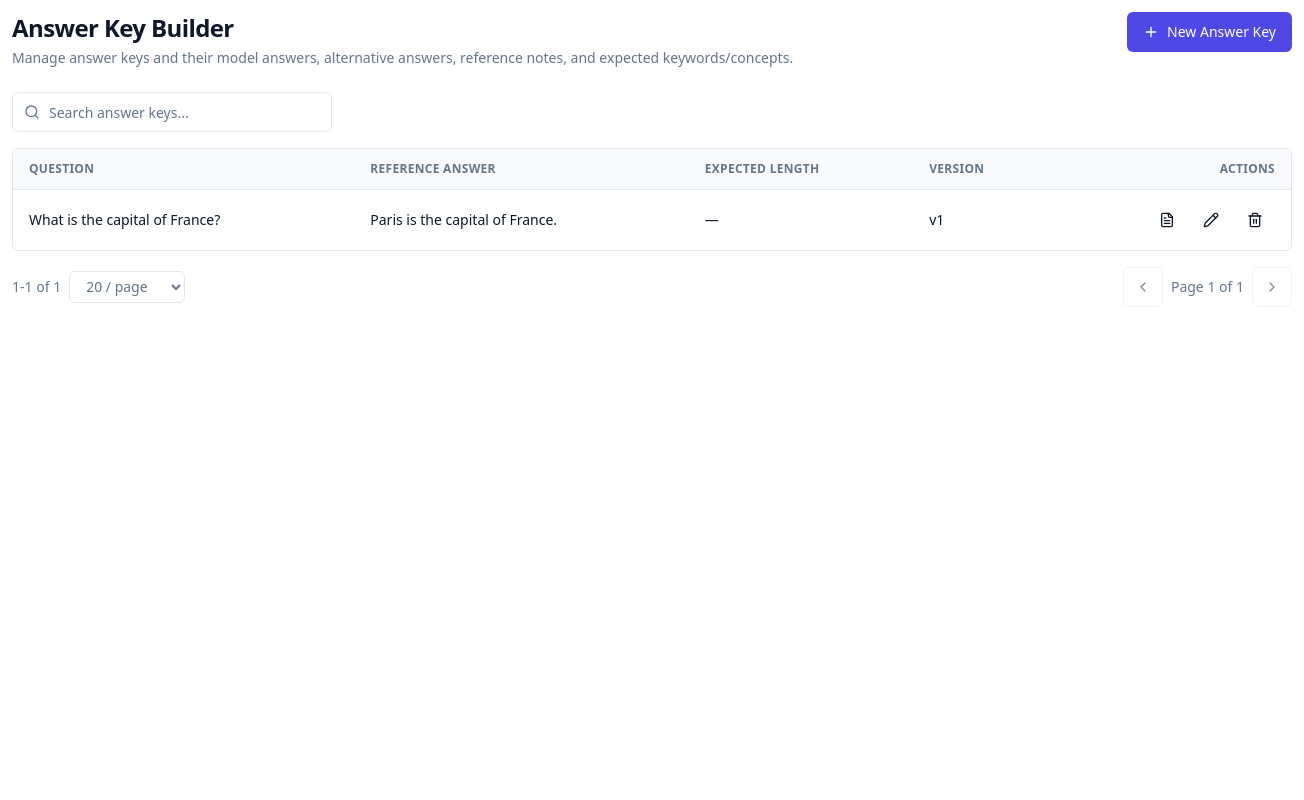
Test: AnswerKeyBuilderPage › opens Manage details and shows the detail heading
Expected: the text "Paris is the capital of France." is shown, [354, 189, 689, 250]
Click the button named "Manage details for What is the capital of France?" at (1167, 220), box [1147, 200, 1187, 240]
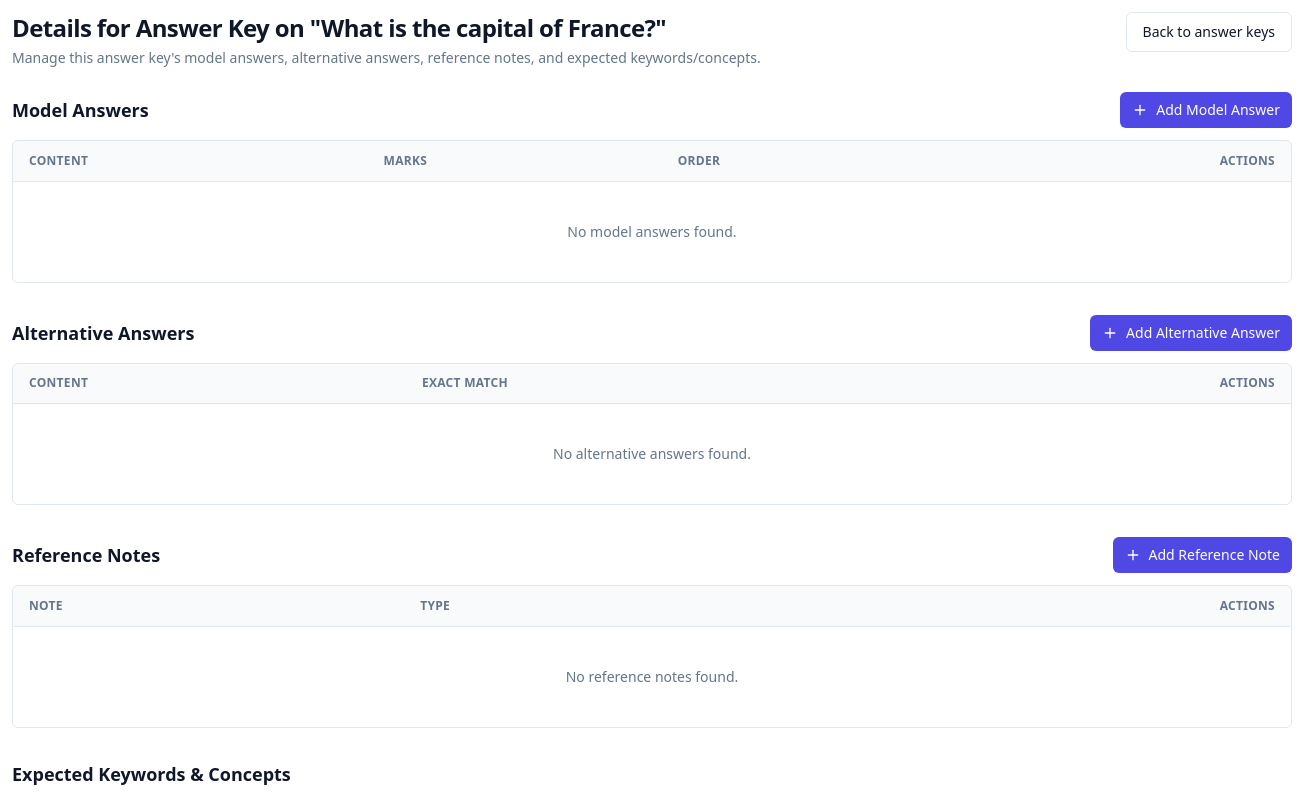
Result: the heading "Details for Answer Key on \"What is the capital of France?\"" is shown at [12, 12, 761, 44]
